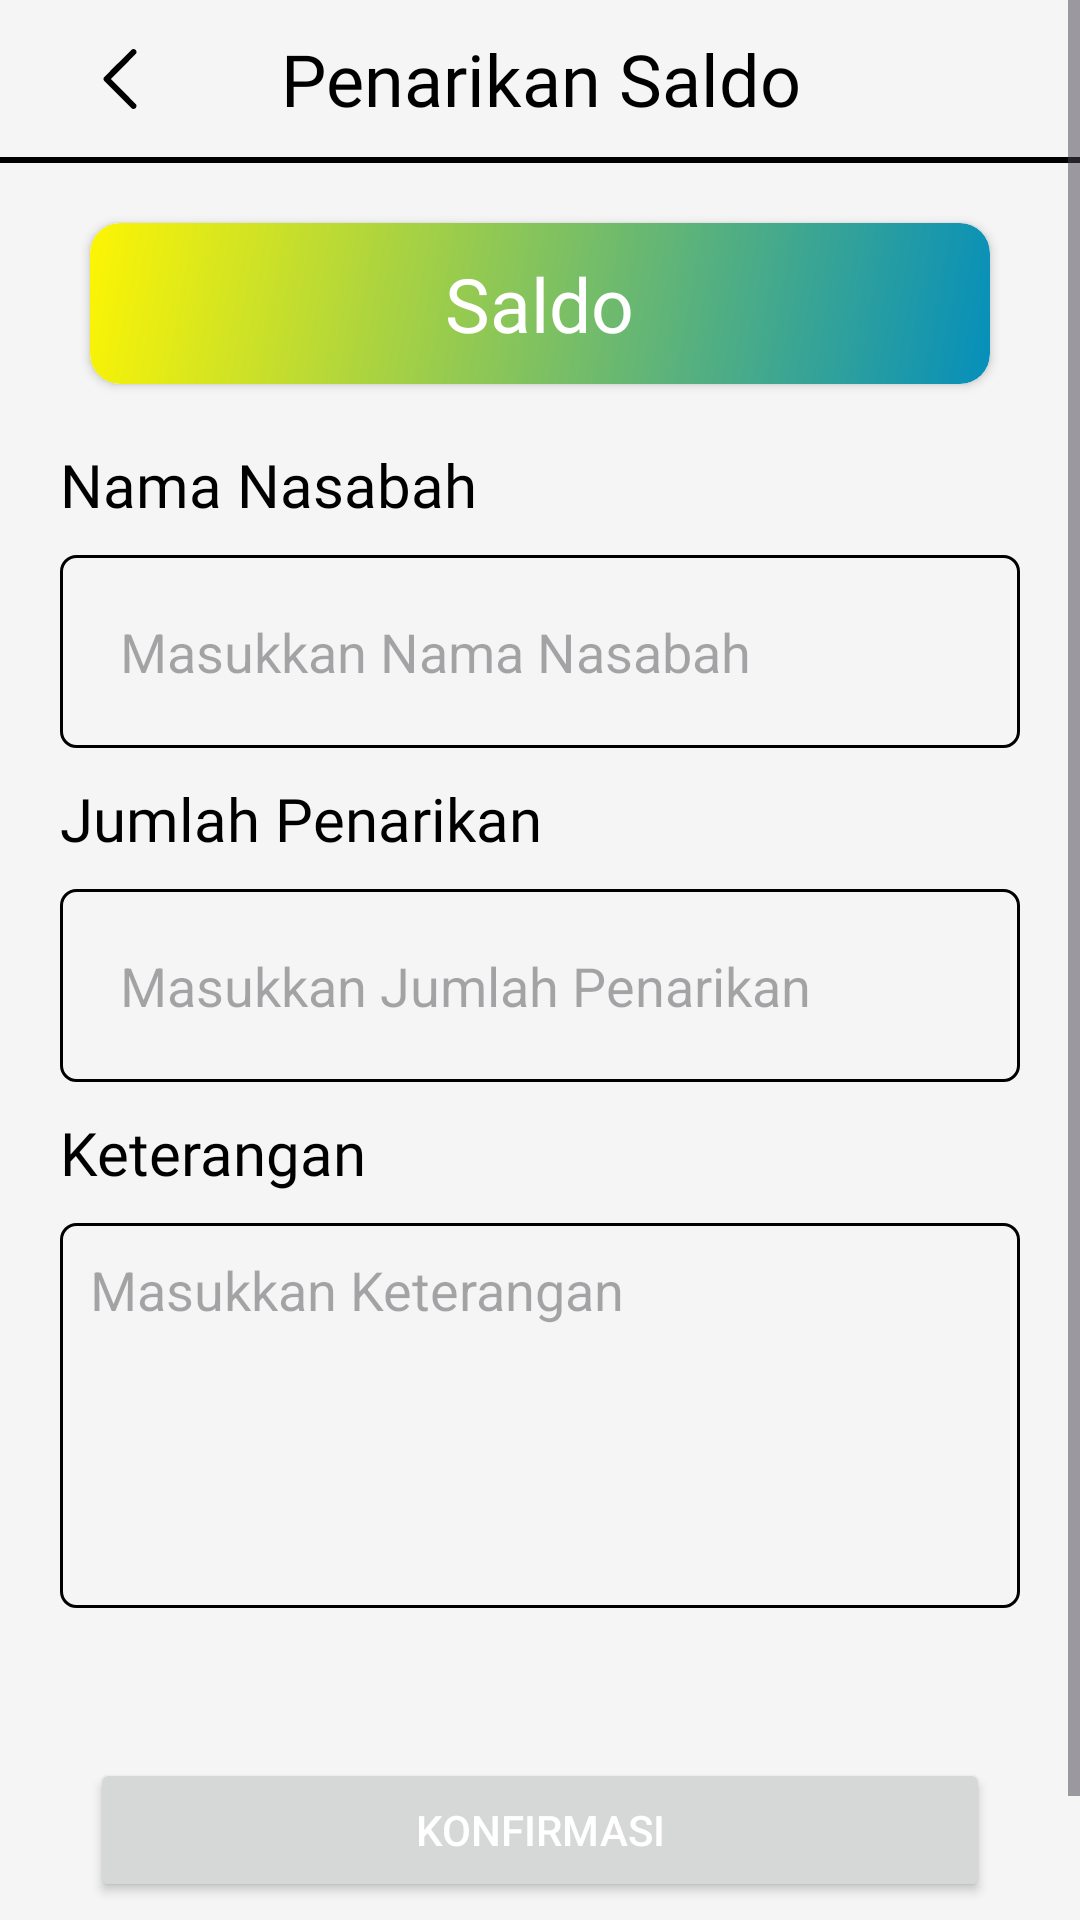

Icon click points for this 1080px x 1920px phone screenshot, format (x,y):
back: (120,79)
